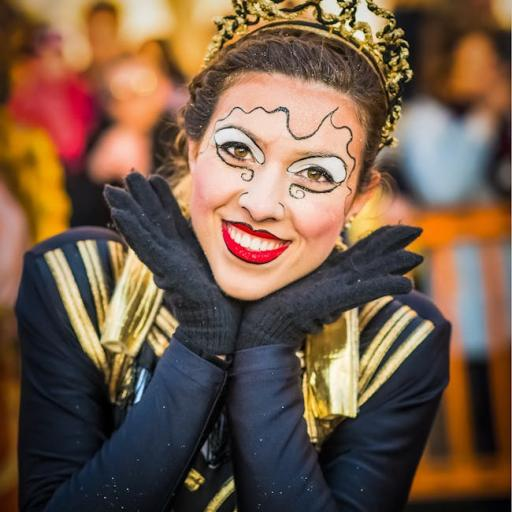lipstick: (223, 222, 289, 263)
